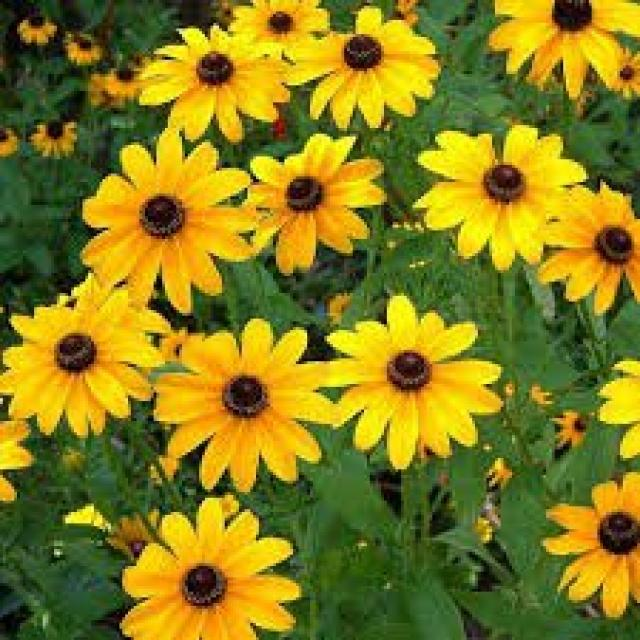sunflower: (77, 128, 256, 313), (150, 316, 336, 492), (322, 293, 504, 469), (0, 276, 162, 438), (410, 122, 586, 270), (116, 495, 298, 637), (245, 131, 384, 273), (284, 3, 441, 128), (134, 23, 287, 142), (487, 0, 638, 97), (541, 470, 637, 618), (538, 179, 637, 313), (228, 0, 330, 54), (595, 358, 637, 475), (28, 116, 77, 156), (603, 46, 637, 100), (14, 14, 57, 46), (554, 411, 587, 449), (64, 33, 104, 64), (106, 66, 136, 94), (0, 125, 19, 154)
